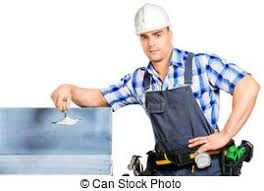helmet: (133, 1, 174, 37)
person with partial safety: (131, 1, 261, 176)
